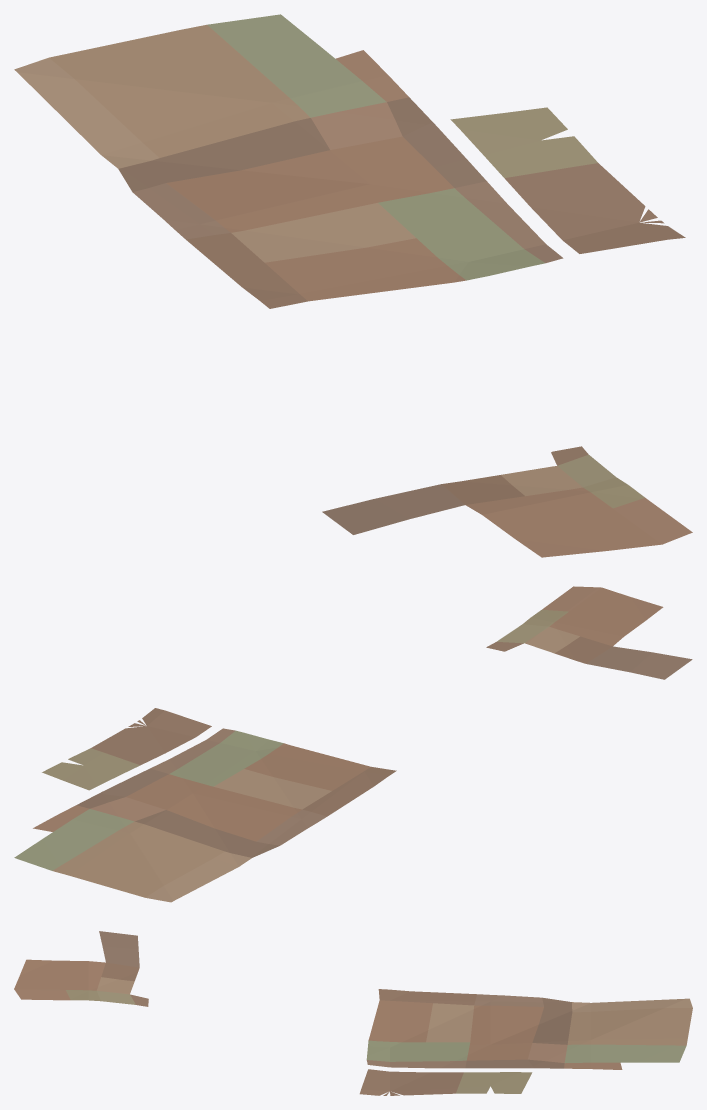
Rendered from farm_4_14_soil.glb.
The picture shows the model from 3 angles, top to bottom: view 1: azimuth 30°, elevation 25°; view 2: azimuth 150°, elevation 25°; view 3: azimuth 270°, elevation 25°; orthographic projection. The views are drawn at different scales.
Parts seen in each view (by area): view 1: geometry_0; view 2: geometry_0; view 3: geometry_0.
Boxes of the visible parts, x1=… form: geometry_0: x1=14, y1=14, x2=692, y2=557; geometry_0: x1=14, y1=586, x2=692, y2=902; geometry_0: x1=14, y1=931, x2=692, y2=1095.
Size of the model in its own units: 285 by 16.38 by 541.
